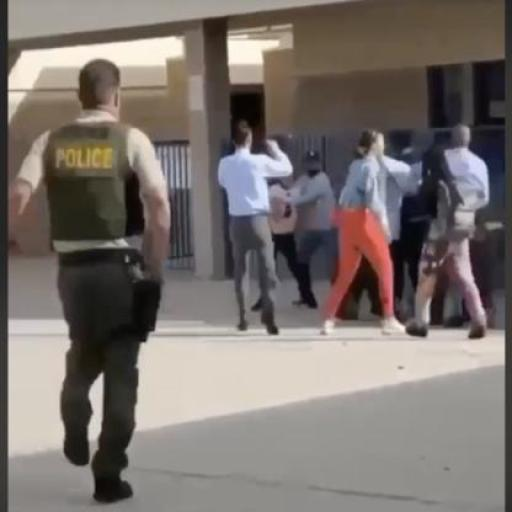Fighting: (236, 105, 503, 339)
